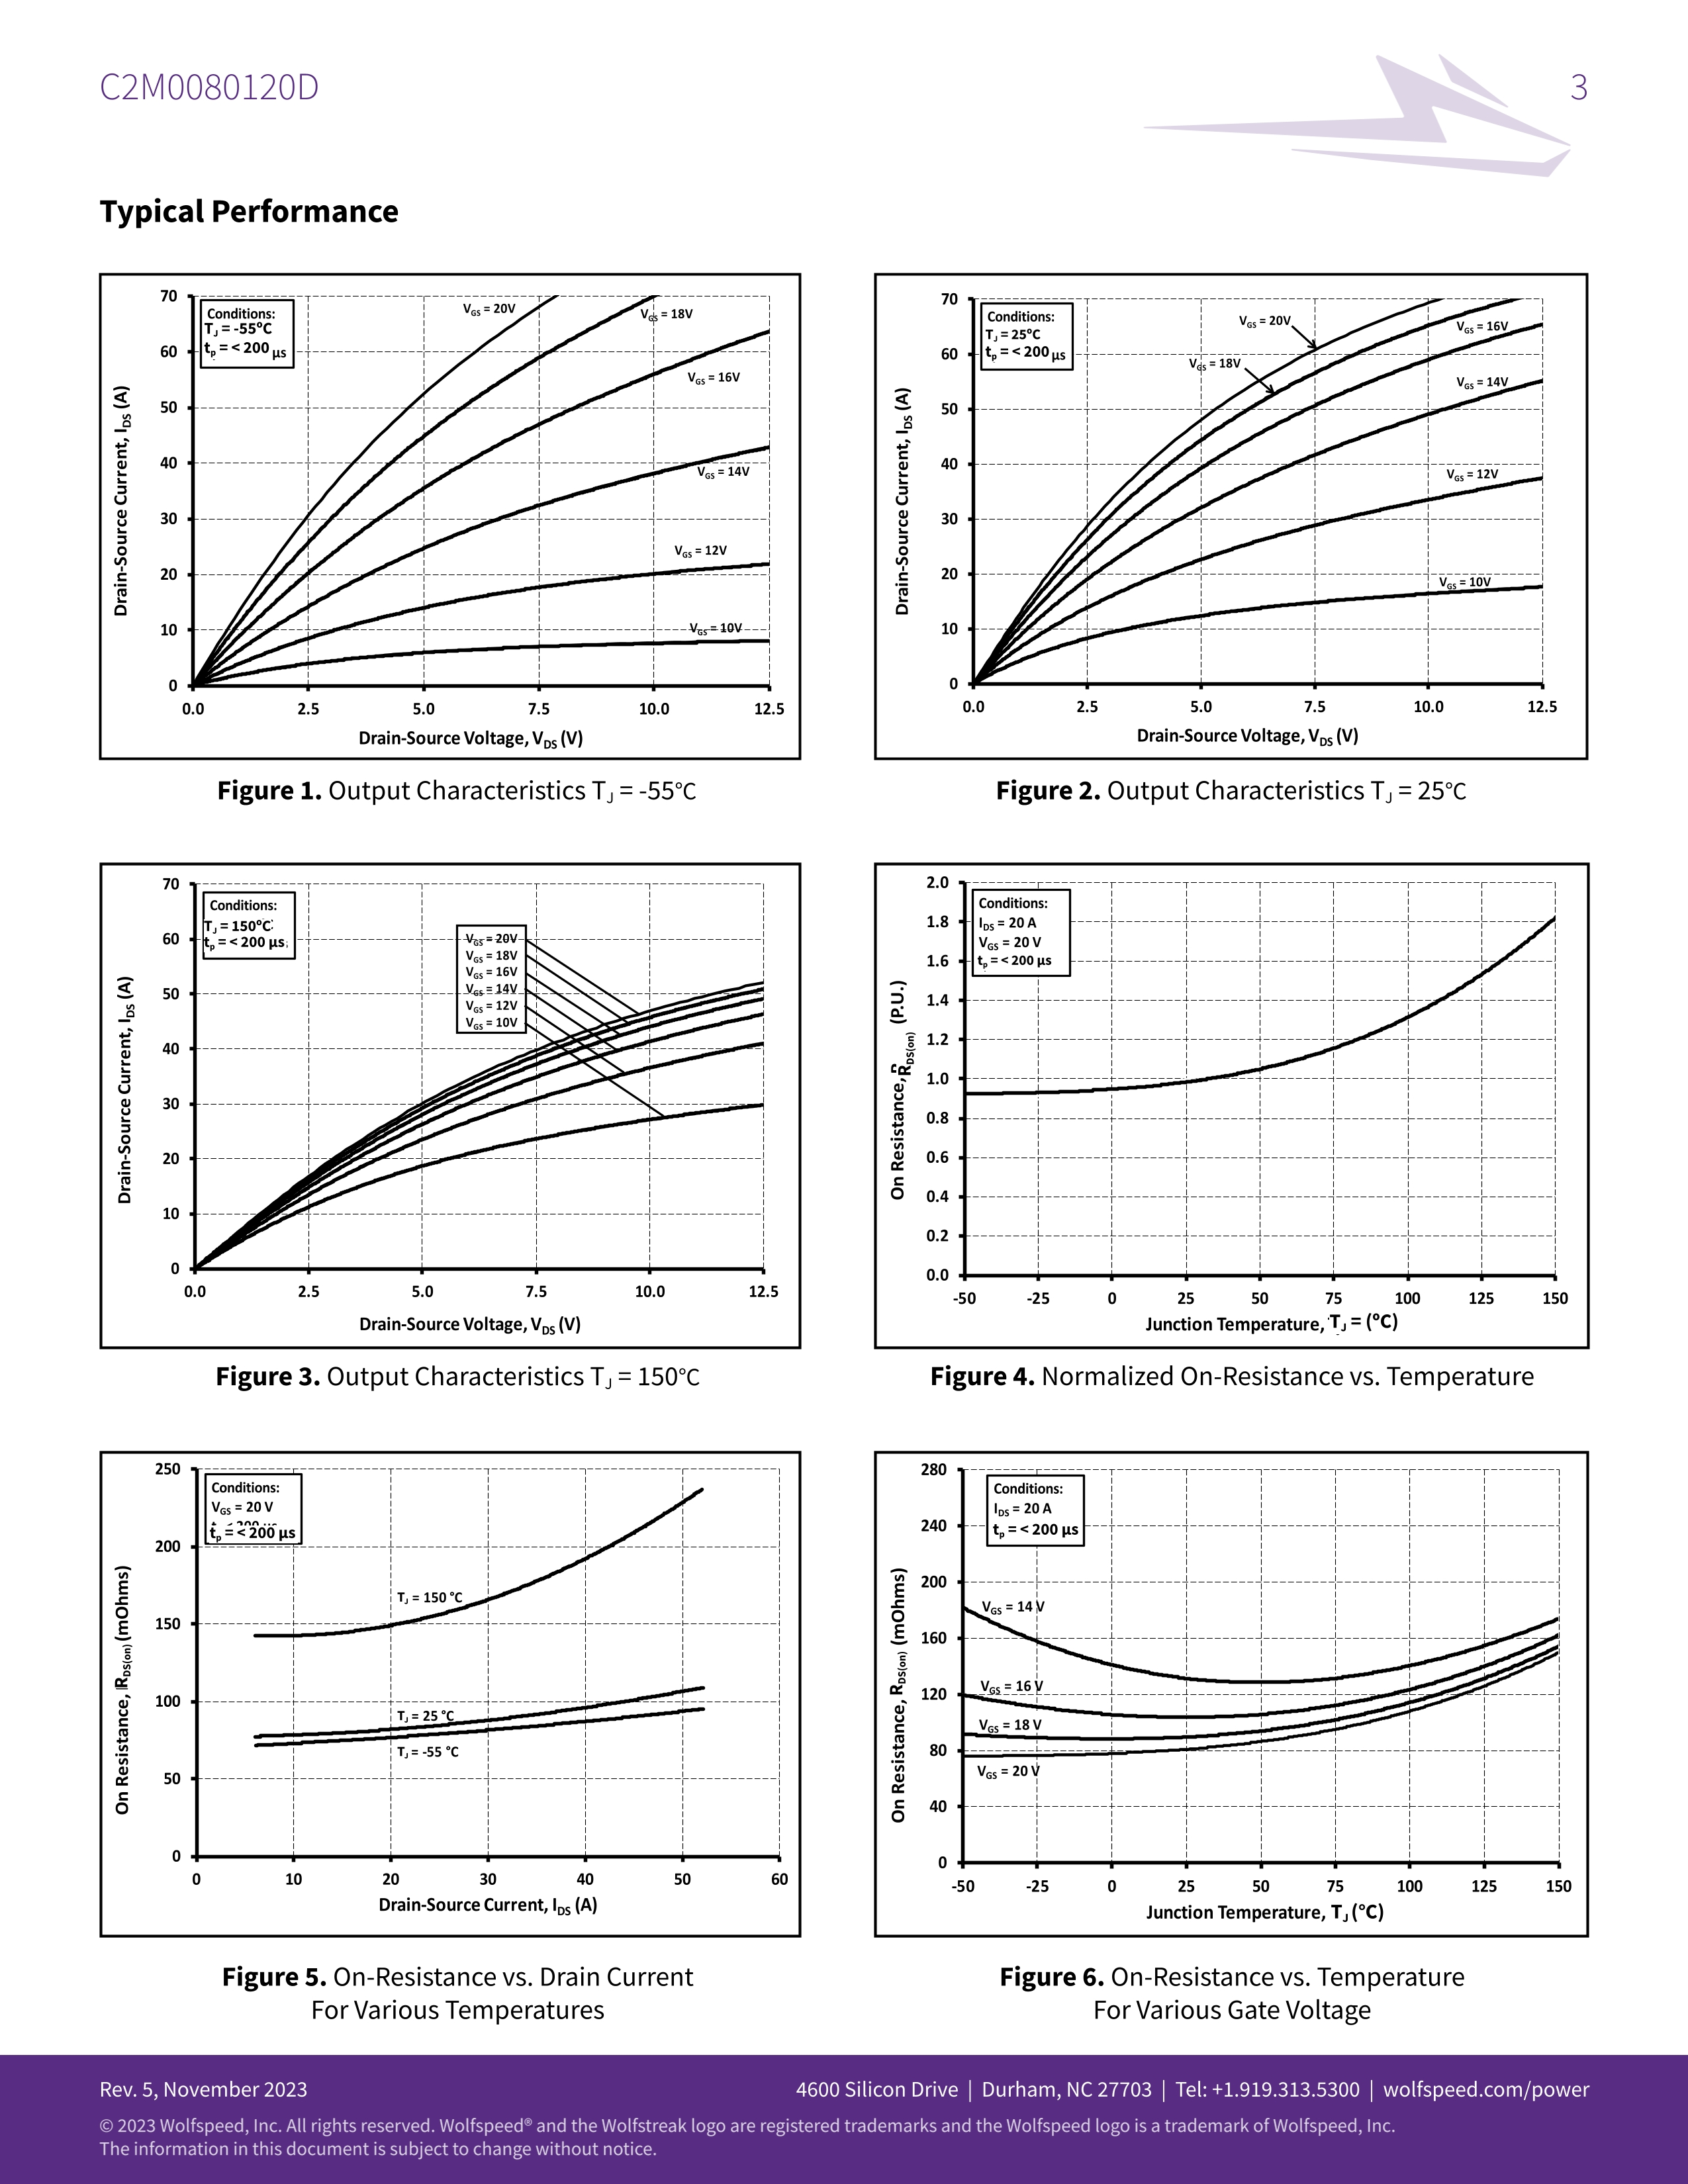diagram: (858, 1436, 1609, 2032), (86, 1438, 810, 2045), (865, 260, 1602, 831), (865, 852, 1605, 1406), (86, 260, 807, 827), (89, 849, 812, 1403)
